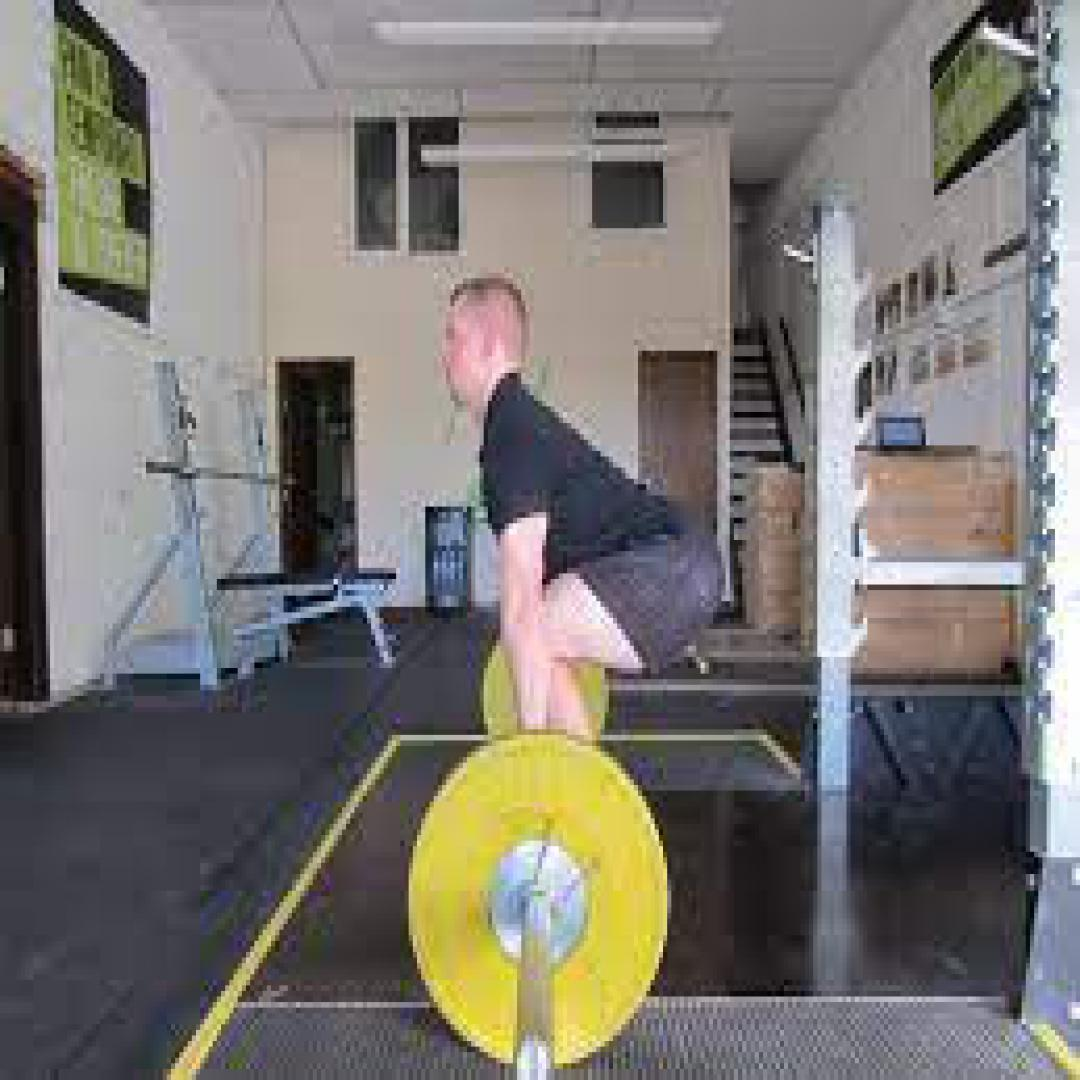Barbell: (409, 735, 667, 1063)
